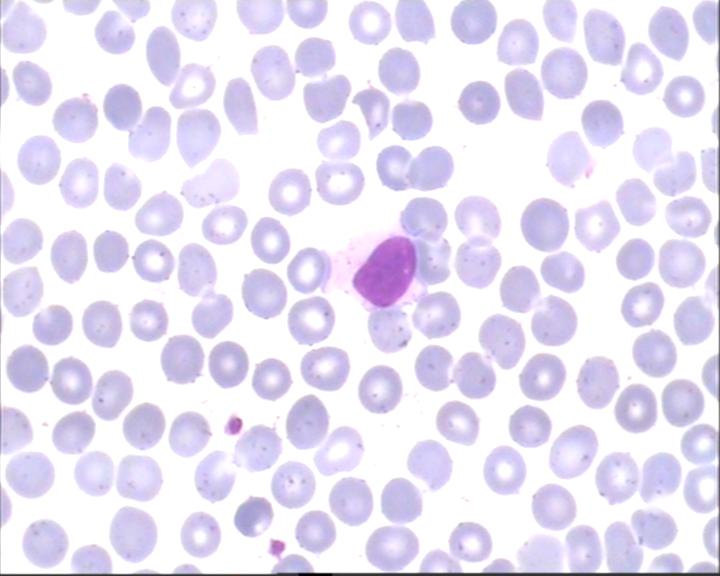mono: (318, 222, 428, 316)
